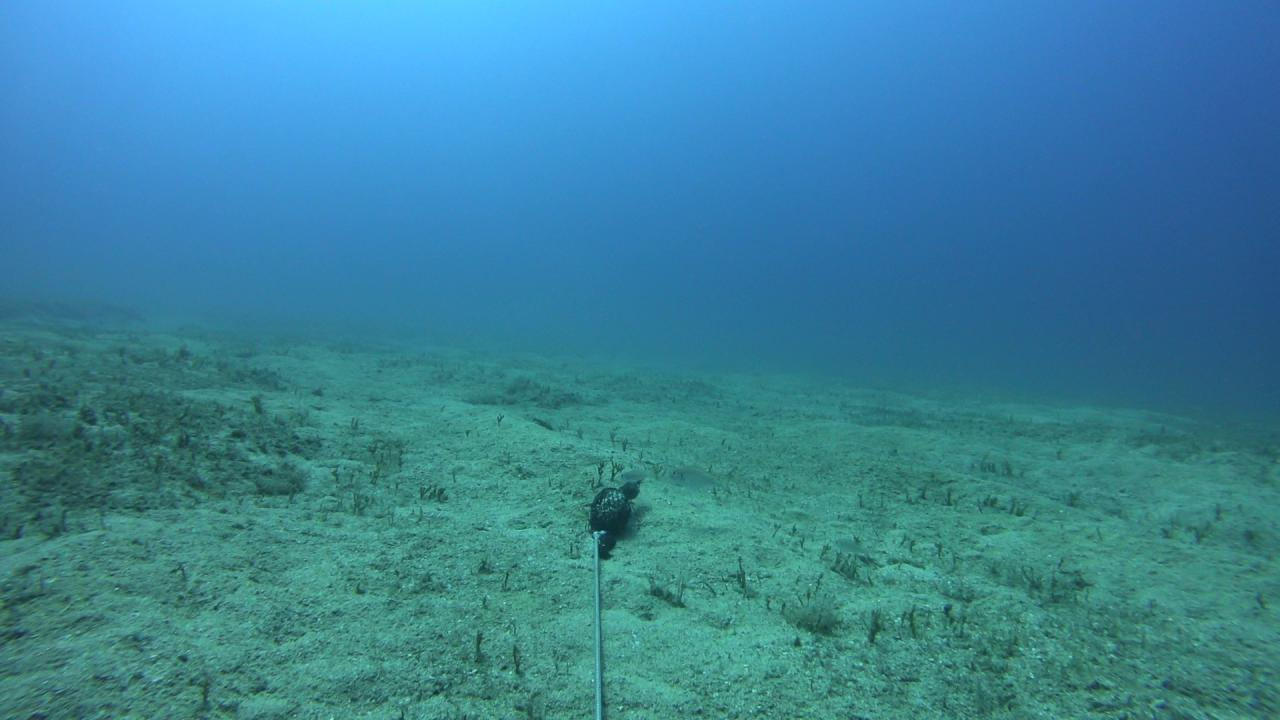pagellus: (668, 461, 732, 493), (830, 536, 874, 554), (620, 469, 660, 483)
